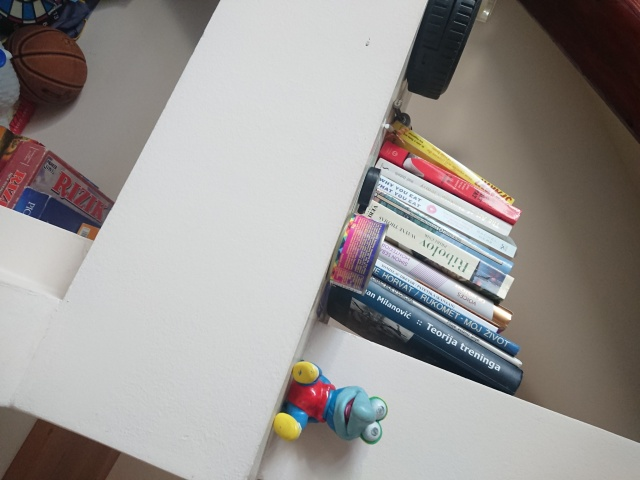Giana Tuna Salad Mexico 185g: (323, 210, 392, 298)
